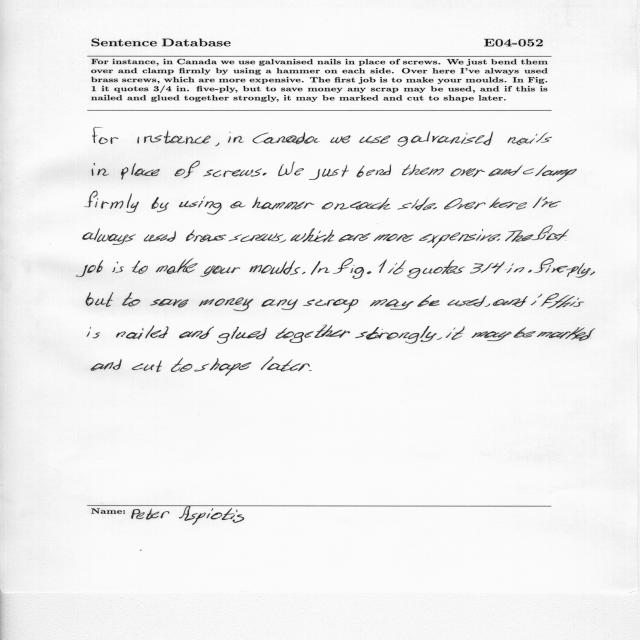word: (419, 229, 501, 248), (514, 258, 591, 278), (398, 131, 493, 147), (355, 326, 437, 344), (276, 325, 350, 343), (85, 191, 139, 213), (407, 261, 465, 279), (194, 358, 252, 376), (137, 130, 211, 144), (523, 165, 577, 182), (83, 228, 136, 245), (217, 327, 267, 344), (333, 258, 372, 279), (537, 327, 595, 341), (252, 197, 314, 210), (253, 132, 320, 144), (179, 196, 221, 215), (303, 299, 358, 313), (199, 298, 253, 312), (116, 326, 169, 340), (250, 261, 301, 275), (541, 293, 585, 309), (261, 357, 310, 371), (334, 198, 390, 210), (156, 258, 198, 274), (121, 163, 159, 180), (291, 228, 334, 242), (309, 165, 349, 180), (508, 132, 552, 145), (532, 226, 569, 241), (203, 168, 262, 177), (402, 164, 444, 176), (229, 233, 284, 242), (398, 198, 436, 211), (370, 299, 414, 310), (186, 230, 226, 242), (444, 198, 486, 209), (77, 260, 104, 277), (489, 198, 527, 210), (179, 326, 214, 339), (93, 127, 119, 144), (174, 161, 200, 178), (357, 165, 391, 178), (201, 266, 241, 277), (448, 296, 487, 307), (470, 262, 505, 274), (471, 331, 512, 341), (261, 299, 298, 310), (86, 292, 113, 307), (278, 162, 304, 177), (488, 165, 523, 176), (493, 296, 528, 307), (132, 360, 162, 372), (144, 231, 176, 242), (505, 230, 534, 242), (150, 299, 188, 308), (91, 359, 122, 370), (373, 234, 414, 242), (451, 168, 485, 177), (338, 233, 371, 242), (171, 358, 192, 372), (417, 295, 440, 307), (151, 197, 169, 212), (311, 261, 330, 275), (388, 261, 407, 275), (446, 326, 465, 340), (122, 293, 140, 307), (360, 136, 391, 144), (514, 327, 536, 338), (92, 163, 109, 176), (542, 197, 562, 208), (132, 261, 148, 274), (228, 132, 244, 143), (330, 136, 351, 144), (112, 261, 124, 273), (87, 327, 100, 338), (531, 294, 542, 305), (379, 259, 387, 273), (533, 197, 543, 208), (231, 201, 246, 208), (322, 202, 333, 209), (507, 263, 514, 273), (279, 239, 286, 243), (590, 272, 595, 276), (485, 303, 490, 307), (437, 337, 442, 340), (216, 143, 220, 146), (263, 173, 267, 175), (433, 207, 437, 209), (497, 239, 500, 241), (302, 272, 305, 274), (309, 370, 312, 371)
